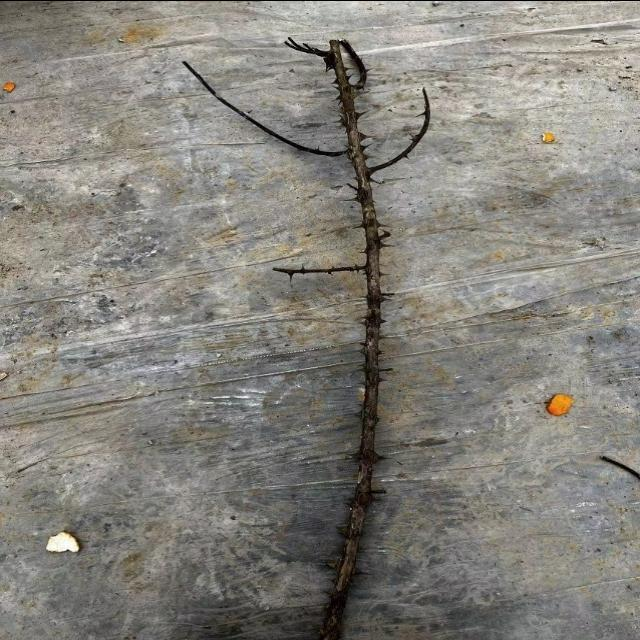branch: (322, 38, 386, 640)
